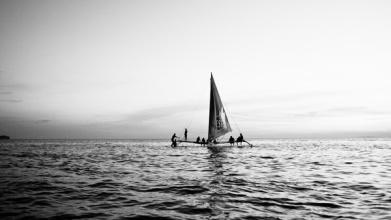fanchuan: (166, 72, 263, 149)
